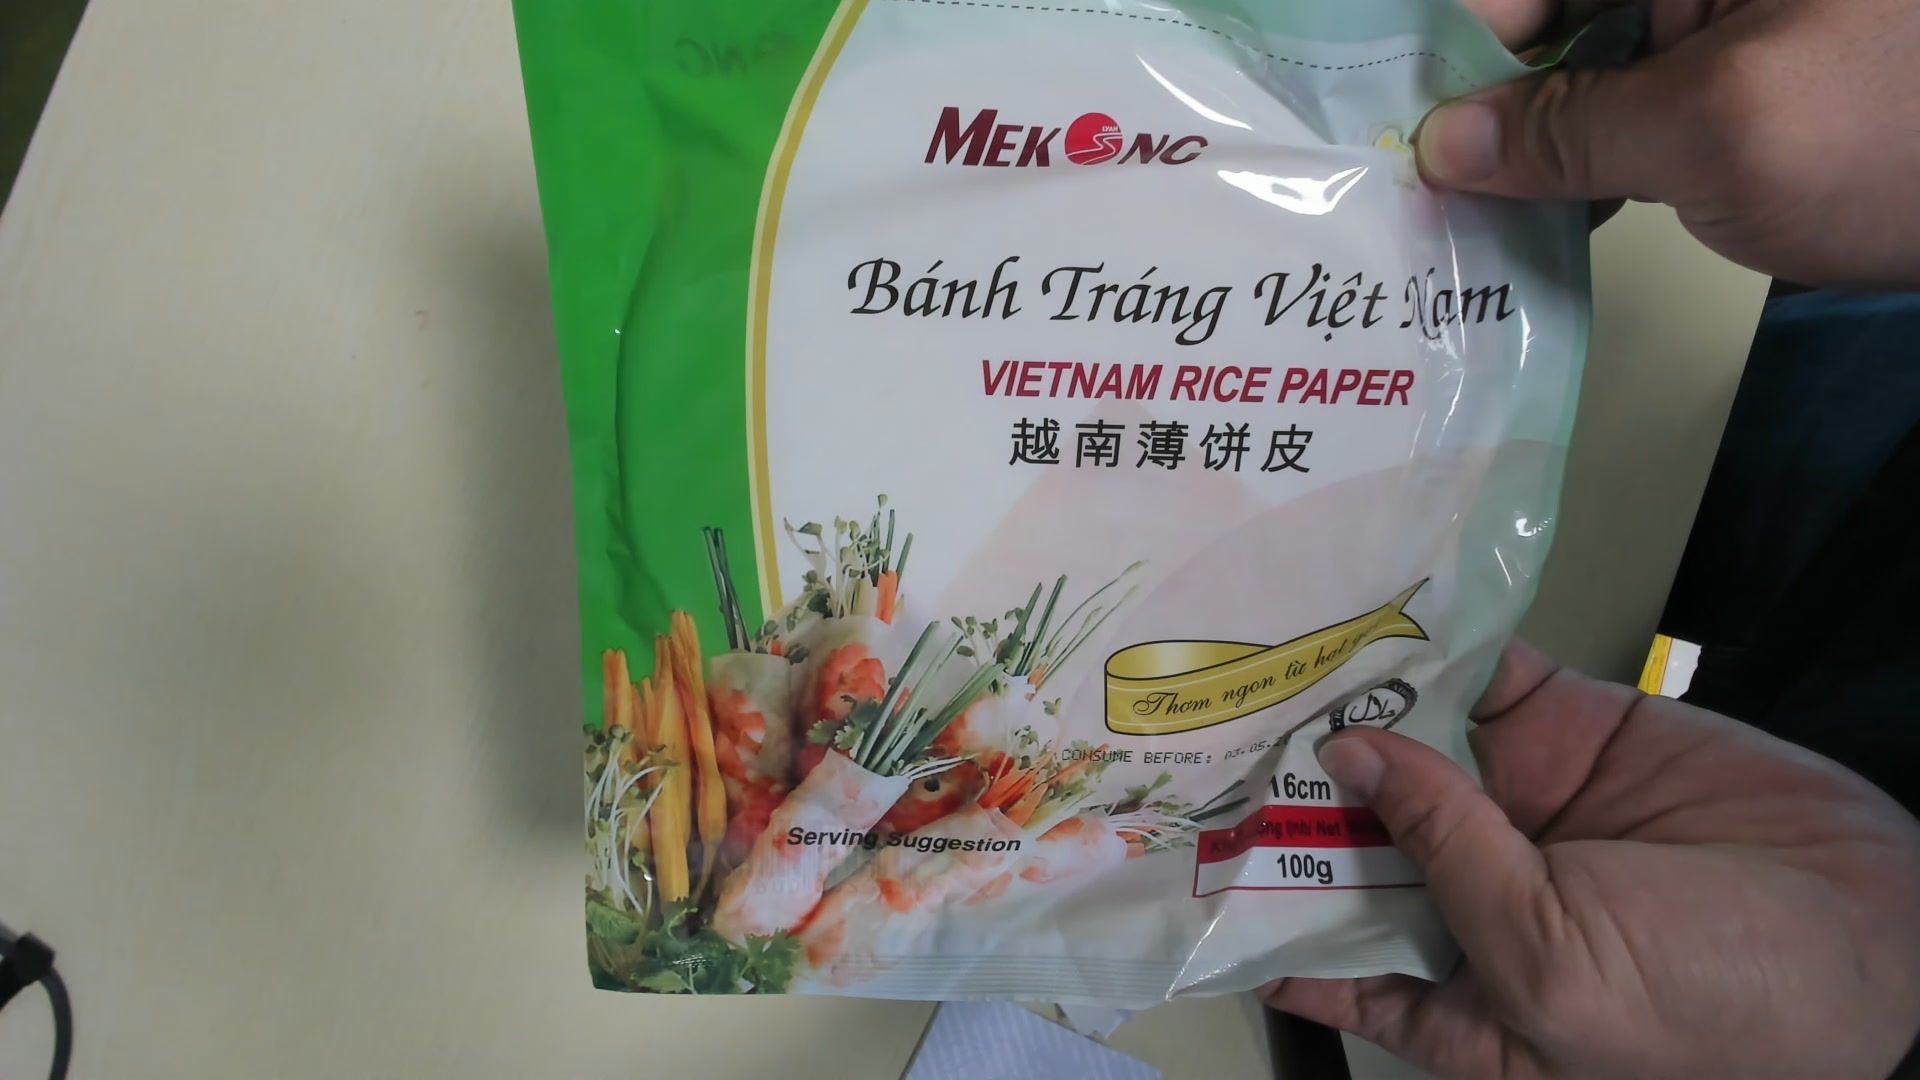InstantMeals_300_399g_NonHalal_NonHealthy: (514, 7, 1607, 996)
